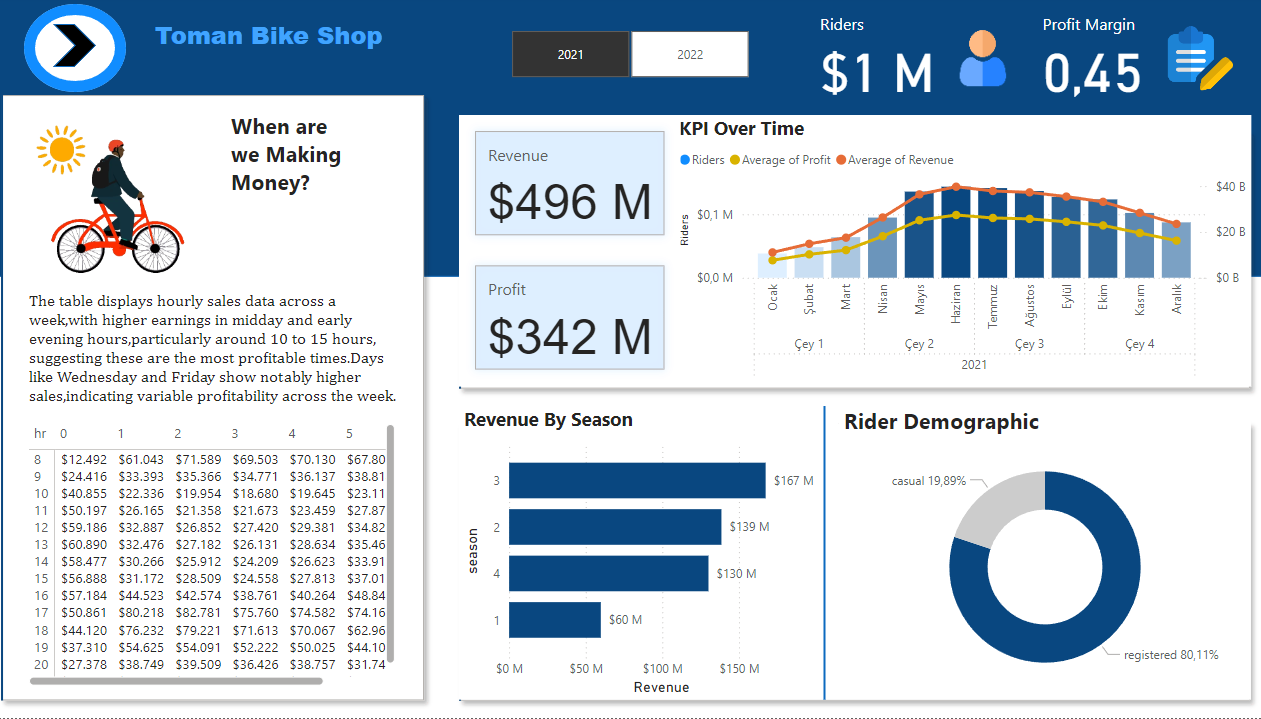

Layout of this report page (visuals, bound fields, positions):
{"tool":"powerbi","page":{"name":"1. sayfa","canvas":[1280,720],"ordinal":0},"visuals":[{"type":"shape","box":[9.7,0,1270.3,280.1],"z":0},{"type":"cardVisual","fields":{"Data":["Min(Sorgu1.riders)"]},"box":[0,81.8,456.9,638.5],"z":1000},{"type":"cardVisual","fields":{"Data":["Min(Sorgu1.riders)"]},"box":[456.9,118.7,823.1,290.3],"z":2000},{"type":"cardVisual","fields":{"Data":["Min(Sorgu1.riders)"]},"box":[28.9,109.7,198.5,172.6],"z":4000},{"type":"pivotTable","fields":{"Values":["Avg(Sorgu1.revenue)"],"Columns":["Sorgu1.weekday"],"Rows":["Sorgu1.hr"]},"box":[39.7,421.8,375.4,270.9],"z":5000},{"type":"textbox","box":[241.4,109.7,182.6,133.7],"z":6000},{"type":"textbox","box":[39.9,289.3,384.1,132.7],"z":7000},{"type":"lineClusteredColumnComboChart","title":"KPI Over Time","fields":{"Category":["Sorgu1.dteday.Varyasyon.Tarih Hiyerarşisi.Yıl","Sorgu1.dteday.Varyasyon.Tarih Hiyerarşisi.Çeyrek","Sorgu1.dteday.Varyasyon.Tarih Hiyerarşisi.Ay","Sorgu1.dteday.Varyasyon.Tarih Hiyerarşisi.Gün"],"Y":["Sum(Sorgu1.riders)"],"Y2":["Avg(Sorgu1.profit)","Avg(Sorgu1.revenue)"]},"box":[688.4,118.7,575.7,271.4],"z":8000},{"type":"cardVisual","fields":{"Data":["Min(Sorgu1.riders)"]},"box":[456.9,409,823.1,311.3],"z":8001},{"type":"donutChart","title":"Rider Demographic","fields":{"Category":["Sorgu1.rider_type"],"Y":["Sum(Sorgu1.riders)"]},"box":[853,409,411,293.3],"z":8002},{"type":"clusteredBarChart","title":"Revenue By Season","fields":{"Category":["Sorgu1.season"],"Y":["Sum(Sorgu1.revenue)"]},"box":[473.9,409,379.1,293.3],"z":8003},{"type":"shape","box":[688.4,409,300.3,293.3],"z":8004},{"type":"cardVisual","title":"KPI Over Time","fields":{"Data":["Sum(Sorgu1.revenue)","Sum(Sorgu1.profit)"]},"box":[473.9,118.7,221.5,271.4],"z":8005},{"type":"cardVisual","fields":{"Data":["Sum(Sorgu1.riders)","Sorgu1.Profit Margin"]},"box":[817.1,0,447,109.7],"z":8006},{"type":"shape","box":[39.9,8,101.8,87.8],"z":8007},{"type":"shape","box":[68.8,27.9,42.9,42.9],"z":8008},{"type":"textbox","box":[165.6,17,249.4,64.8],"z":8009},{"type":"slicer","fields":{"Values":["Sorgu1.years"]},"box":[500.8,27.9,286.3,59.9],"z":8010}]}

Visuals, with their boxes in screenshot pixels (x1, y1, x2, y2), scaled from the page's 1280x720 canvas onto the 1261x719 screenshot:
shape: box=[10, 0, 1260, 280]
cardVisual - Min(Sorgu1.riders): box=[0, 82, 450, 718]
cardVisual - Min(Sorgu1.riders): box=[450, 119, 1260, 408]
cardVisual - Min(Sorgu1.riders): box=[28, 110, 224, 282]
pivotTable - Avg(Sorgu1.revenue) x Sorgu1.weekday: box=[39, 421, 409, 692]
textbox: box=[238, 110, 418, 243]
textbox: box=[39, 289, 418, 421]
"KPI Over Time" lineClusteredColumnComboChart: box=[678, 119, 1245, 390]
cardVisual - Min(Sorgu1.riders): box=[450, 408, 1260, 718]
"Rider Demographic" donutChart: box=[840, 408, 1245, 701]
"Revenue By Season" clusteredBarChart: box=[467, 408, 840, 701]
shape: box=[678, 408, 974, 701]
"KPI Over Time" cardVisual: box=[467, 119, 685, 390]
cardVisual - Sum(Sorgu1.riders) x Sorgu1.Profit Margin: box=[805, 0, 1245, 110]
shape: box=[39, 8, 140, 96]
shape: box=[68, 28, 110, 71]
textbox: box=[163, 17, 409, 82]
slicer - Sorgu1.years: box=[493, 28, 775, 88]
